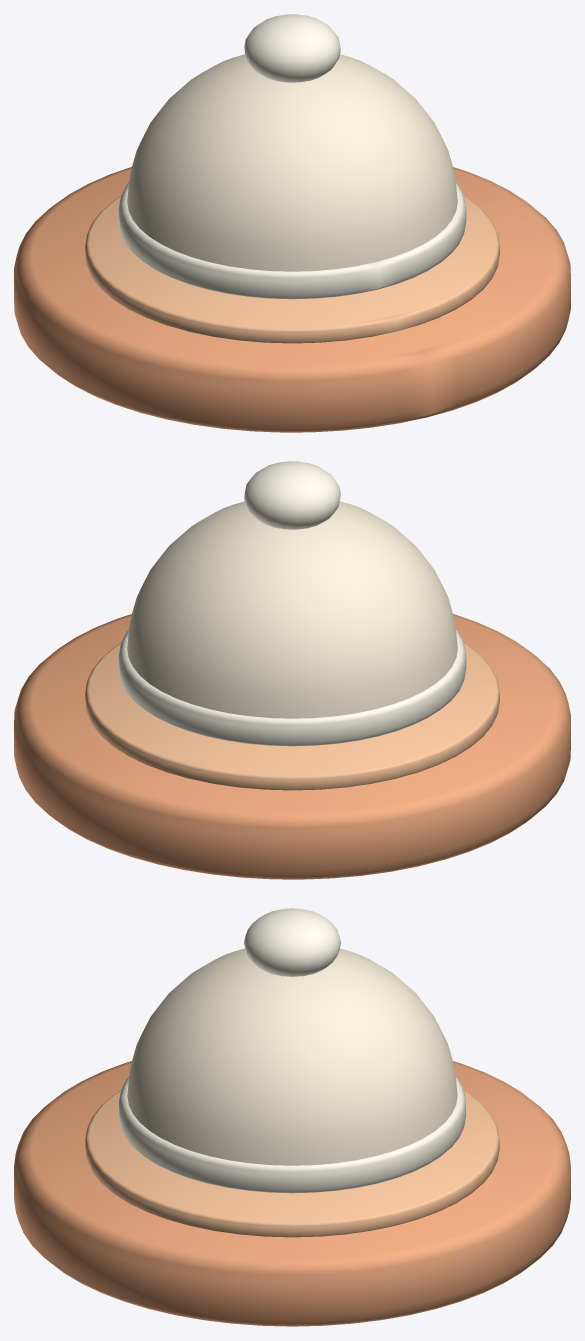
File: restaurant.glb
The picture shows the model from 3 angles, top to bottom: view 1: azimuth 30°, elevation 25°; view 2: azimuth 150°, elevation 25°; view 3: azimuth 270°, elevation 25°; orthographic projection.
Visible parts, largest first — view 1: Plate, Cream cloche, Plate inner well, Cloche lower lip, Cloche knob; view 2: Plate, Cream cloche, Plate inner well, Cloche lower lip, Cloche knob; view 3: Plate, Cream cloche, Plate inner well, Cloche lower lip, Cloche knob.
Boxes of the visible parts, left/top/right/bottom form: Plate: left=14, top=167, right=570, bottom=432; Cream cloche: left=127, top=54, right=457, bottom=271; Plate inner well: left=85, top=196, right=499, bottom=343; Cloche lower lip: left=118, top=182, right=466, bottom=299; Cloche knob: left=244, top=14, right=340, bottom=82; Plate: left=14, top=614, right=570, bottom=879; Cream cloche: left=127, top=501, right=457, bottom=718; Plate inner well: left=85, top=643, right=499, bottom=790; Cloche lower lip: left=118, top=629, right=466, bottom=746; Cloche knob: left=244, top=461, right=340, bottom=529; Plate: left=14, top=1061, right=570, bottom=1326; Cream cloche: left=127, top=948, right=457, bottom=1165; Plate inner well: left=85, top=1090, right=499, bottom=1237; Cloche lower lip: left=119, top=1076, right=465, bottom=1193; Cloche knob: left=244, top=908, right=340, bottom=976.
Size of the model in its own units: 0.86 by 0.586 by 0.86.
